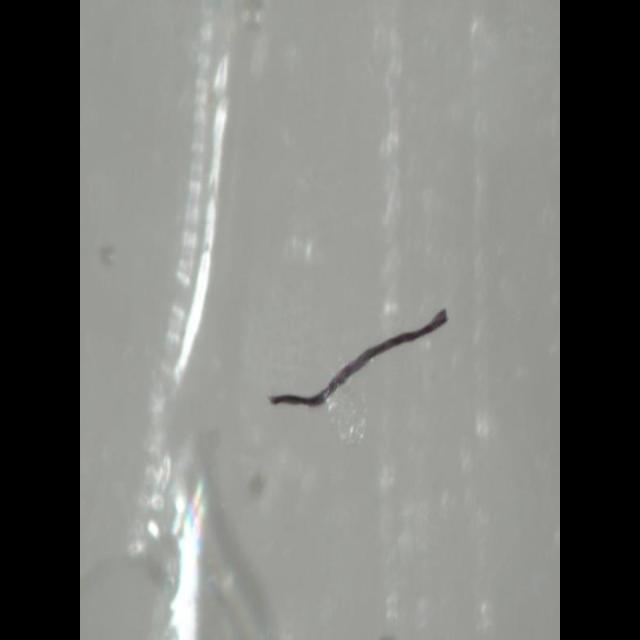Fibre: (267, 306, 448, 408)
